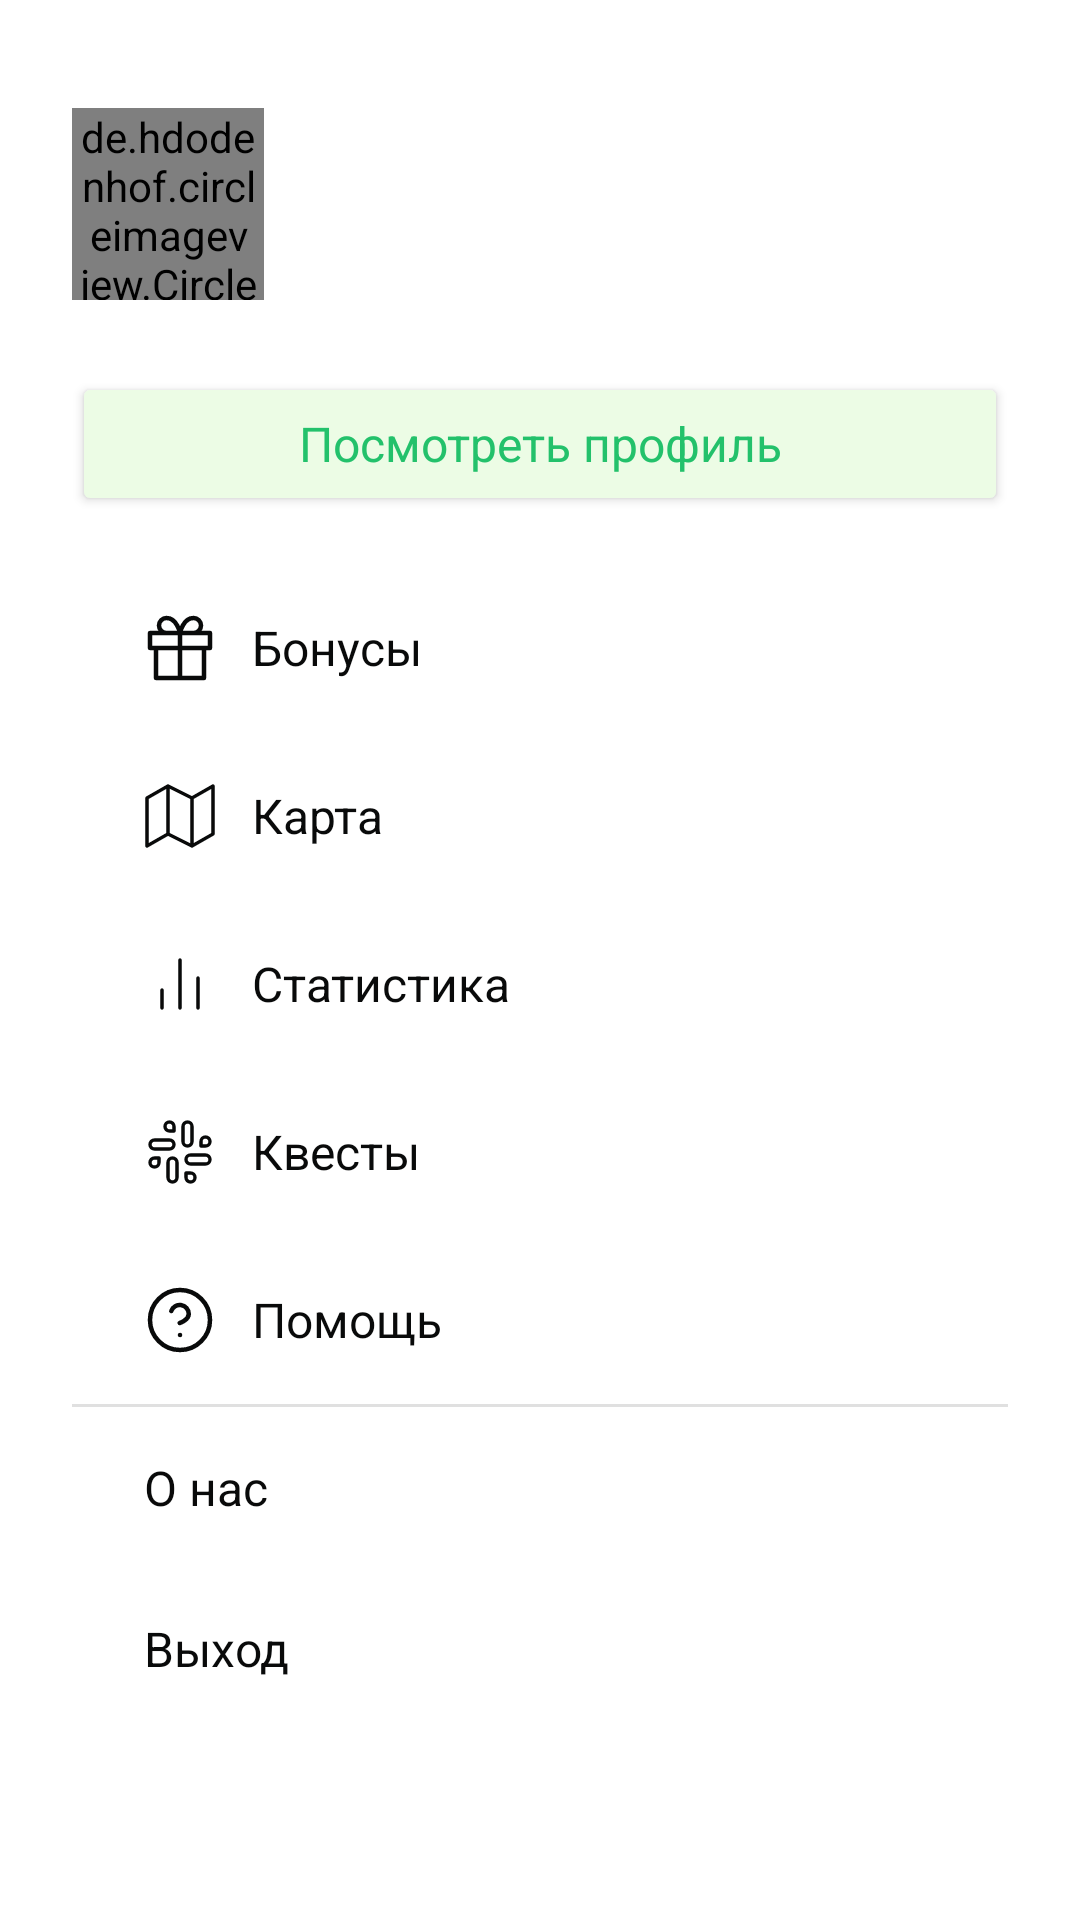

Screen size 1080 × 1920. Icon name, then its center in pixels as (x,y):
bonus: (180,648)
help: (180,1320)
map: (180,816)
stats: (180,984)
